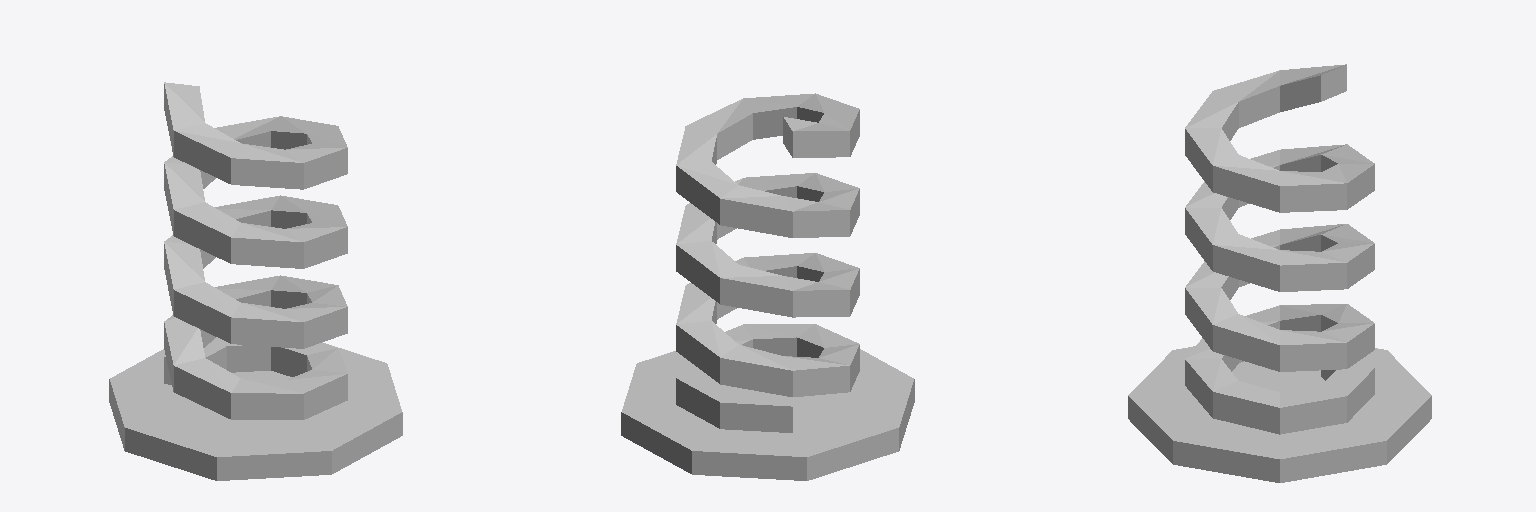
Rendered from sculpture.obj.
3 views of the same model, side by side, from view 1: azimuth 30°, elevation 25°; view 2: azimuth 150°, elevation 25°; view 3: azimuth 270°, elevation 25° (orthographic).
Visible parts, largest first — view 1: Cylinder.001; view 2: Cylinder.001; view 3: Cylinder.001.
Part boxes in pixels (bbox=[...]): Cylinder.001: bbox=[109, 82, 402, 480]; Cylinder.001: bbox=[621, 93, 914, 480]; Cylinder.001: bbox=[1128, 64, 1431, 482].
Bounding box in the file's own units: 3.19 × 3.79 × 3.19.